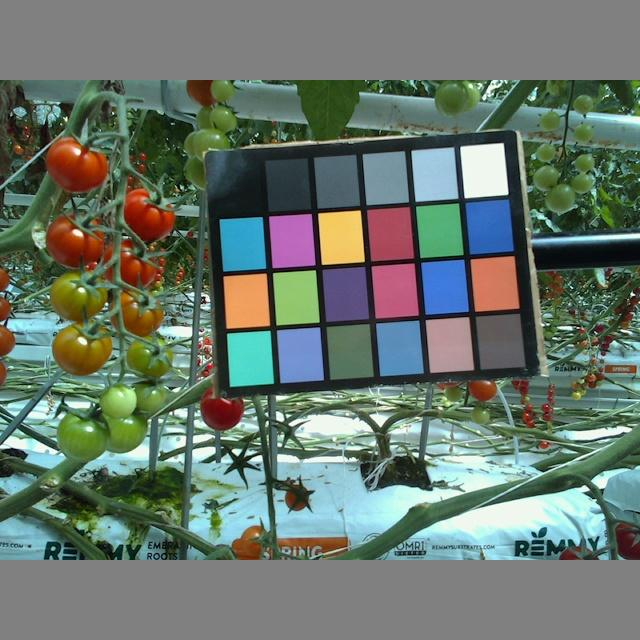green: (52, 325, 108, 371), (58, 409, 105, 461), (51, 275, 107, 316), (125, 338, 175, 380), (102, 418, 151, 455), (435, 81, 481, 113), (95, 385, 137, 416), (191, 129, 232, 156), (135, 384, 162, 412), (546, 184, 573, 211), (212, 106, 236, 130), (535, 164, 556, 188), (575, 151, 597, 172), (539, 109, 560, 130), (573, 174, 596, 192), (574, 94, 594, 114), (209, 81, 230, 100), (537, 142, 556, 162), (471, 407, 490, 425), (577, 125, 593, 143)
pink: (112, 292, 167, 336), (467, 380, 499, 399), (1, 326, 15, 356), (1, 298, 12, 322), (1, 268, 10, 293), (1, 362, 8, 387)
red: (46, 136, 107, 199), (41, 211, 105, 267), (101, 235, 160, 288), (121, 188, 176, 239), (201, 389, 246, 430)
